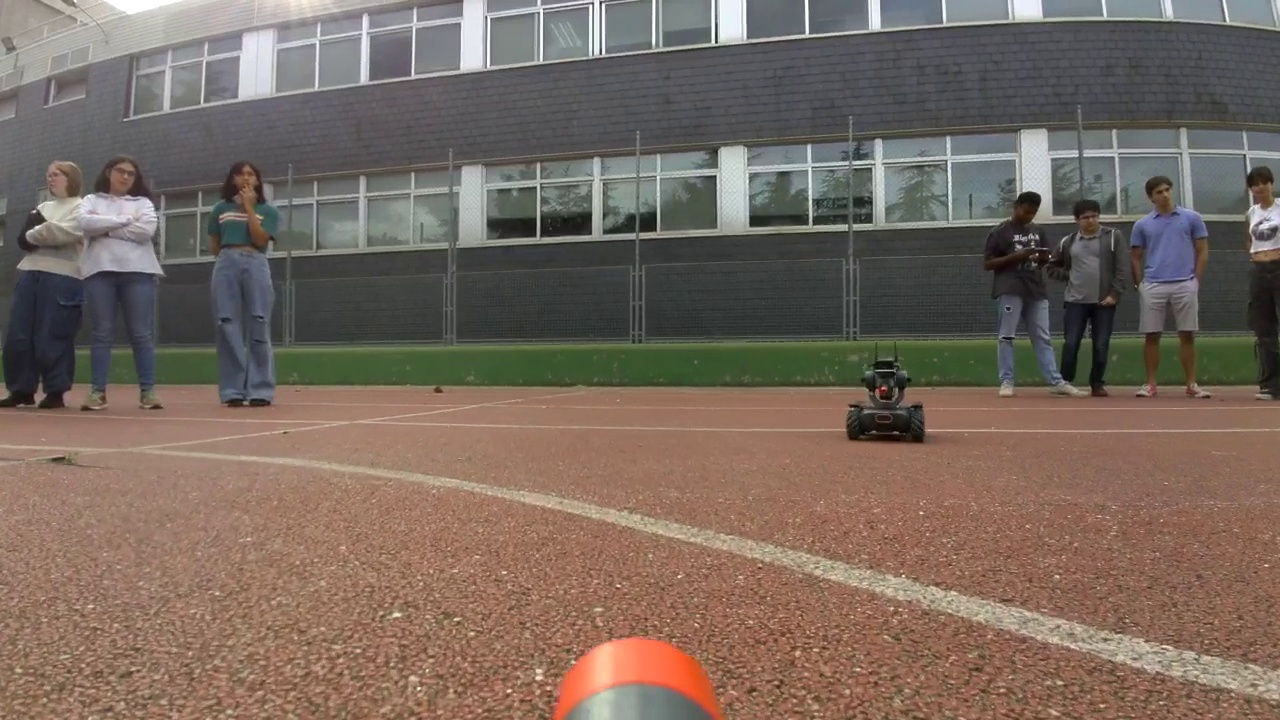robot: (848, 361, 923, 439)
